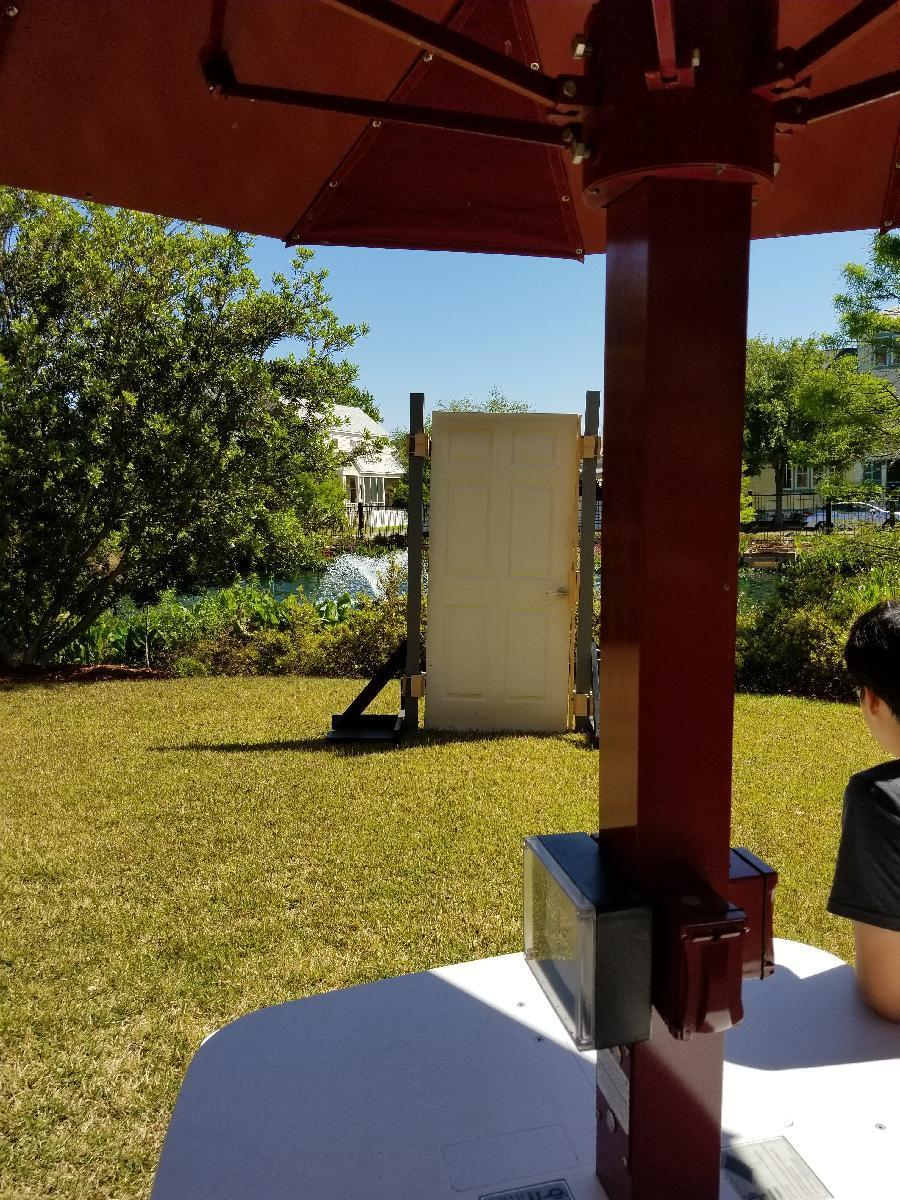door: (434, 410, 576, 732)
handle: (541, 585, 570, 601)
